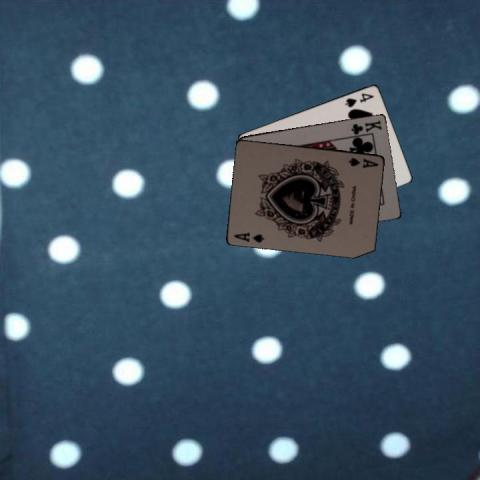4s: (342, 90, 375, 109)
As: (231, 229, 266, 244), (346, 155, 380, 169)
Kc: (348, 118, 383, 136)
